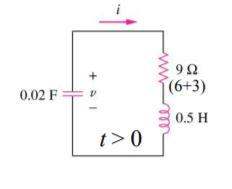inductor: (156, 96, 173, 139)
